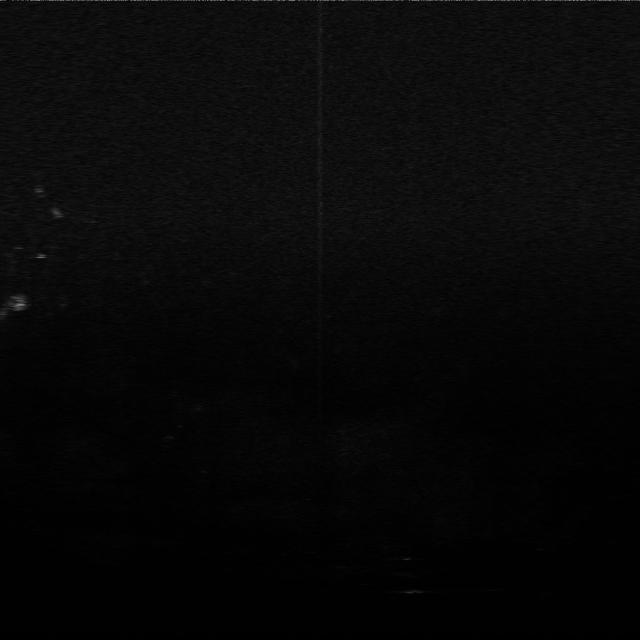rov: (4, 294, 36, 317)
